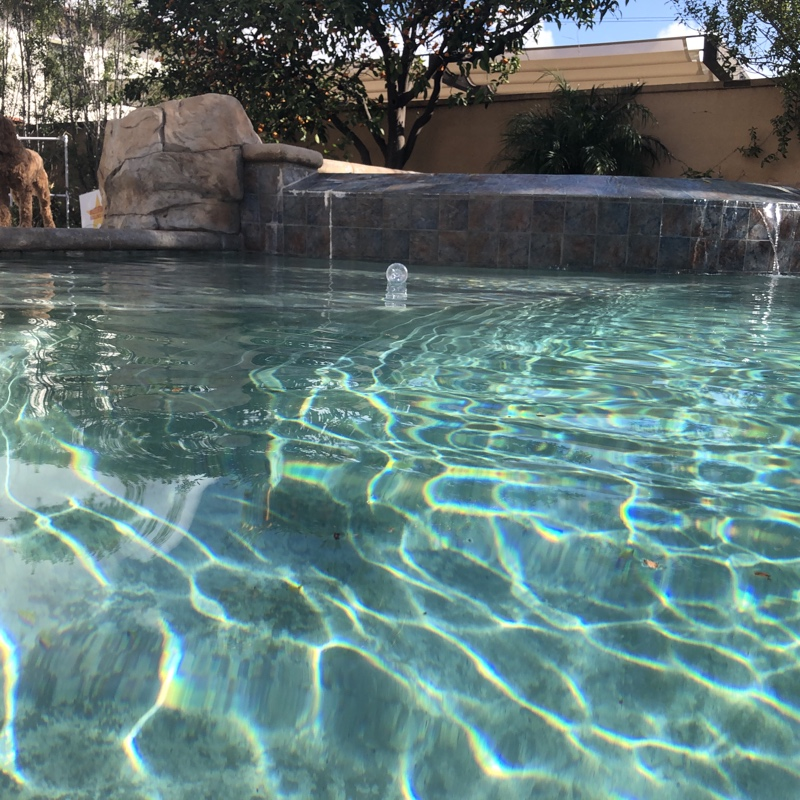Plastic Bottle: (381, 259, 410, 289)
